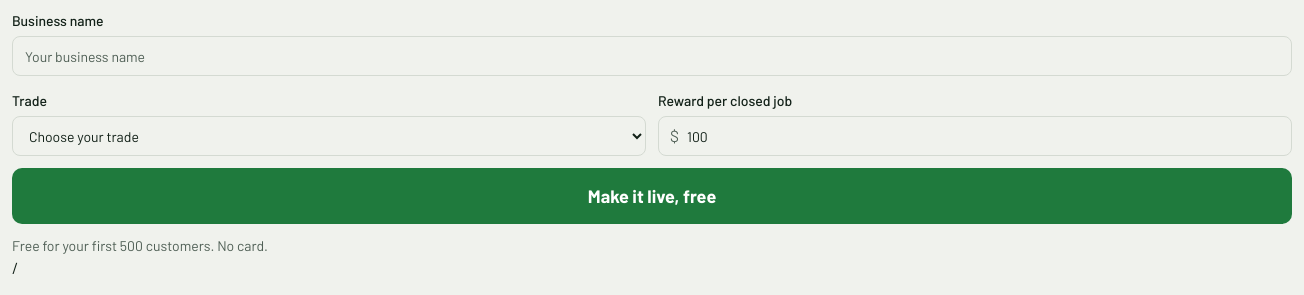
Test: instant preview trade choice › uses the generic preview until a trade is chosen, then navigates with that trade
This screenshot has width=1304, height=295.
In the field labelled "Business name": (652, 56) [12,36,1292,76], type "Flooring fixture"
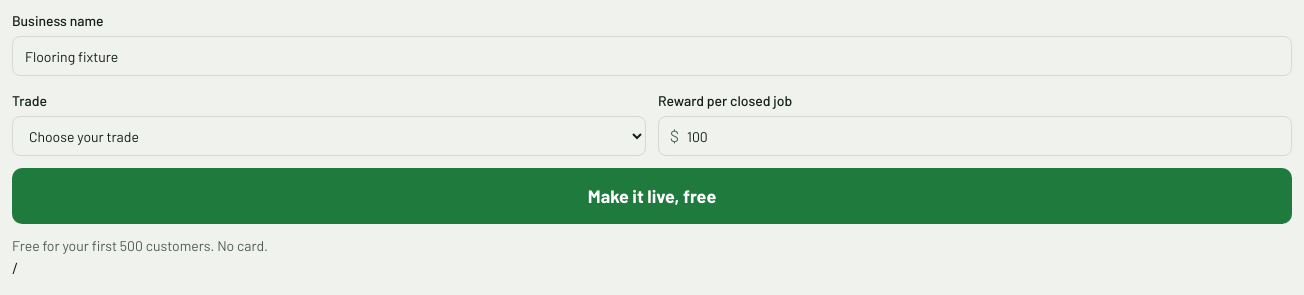
Select "Painting" in the dropdown labelled "Trade": (329, 136) [12,116,646,156]
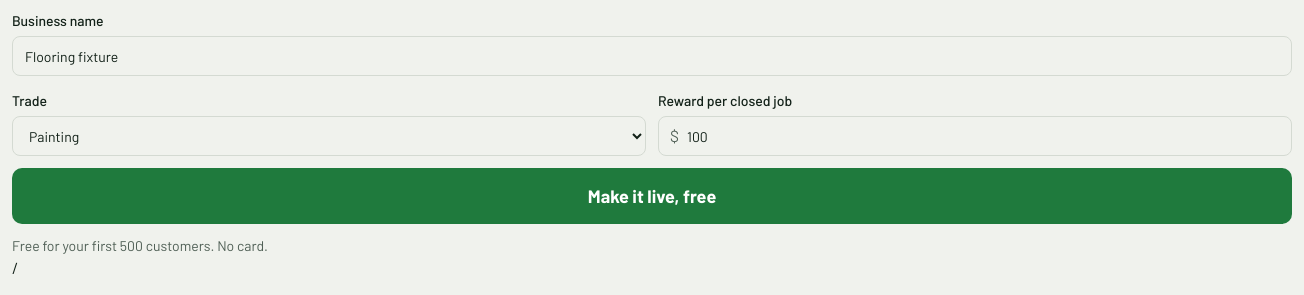
Expected: the number field labelled "Reward per closed job" holds "100", [658,116,1292,156]
Click the button "Make it live, free": (652, 196) [12,168,1292,224]
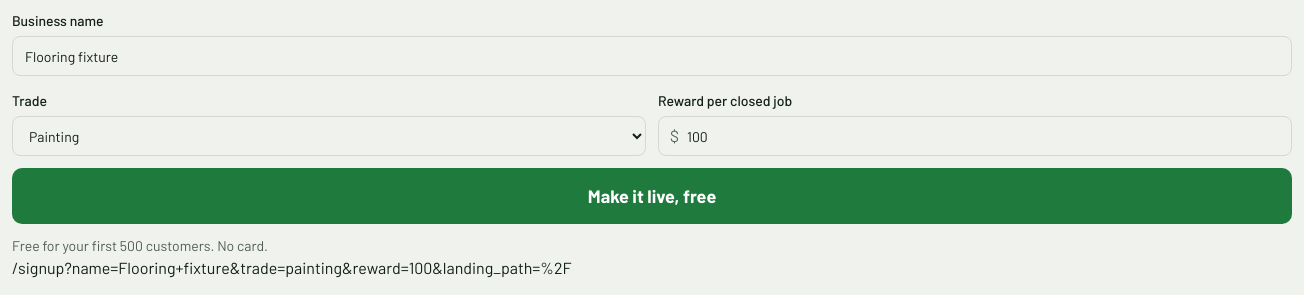
Result: the text with test id "location" shows "/signup?" at [12,258,64,277]
Result: the text with test id "location" shows "trade=painting" at [64,258,572,277]
